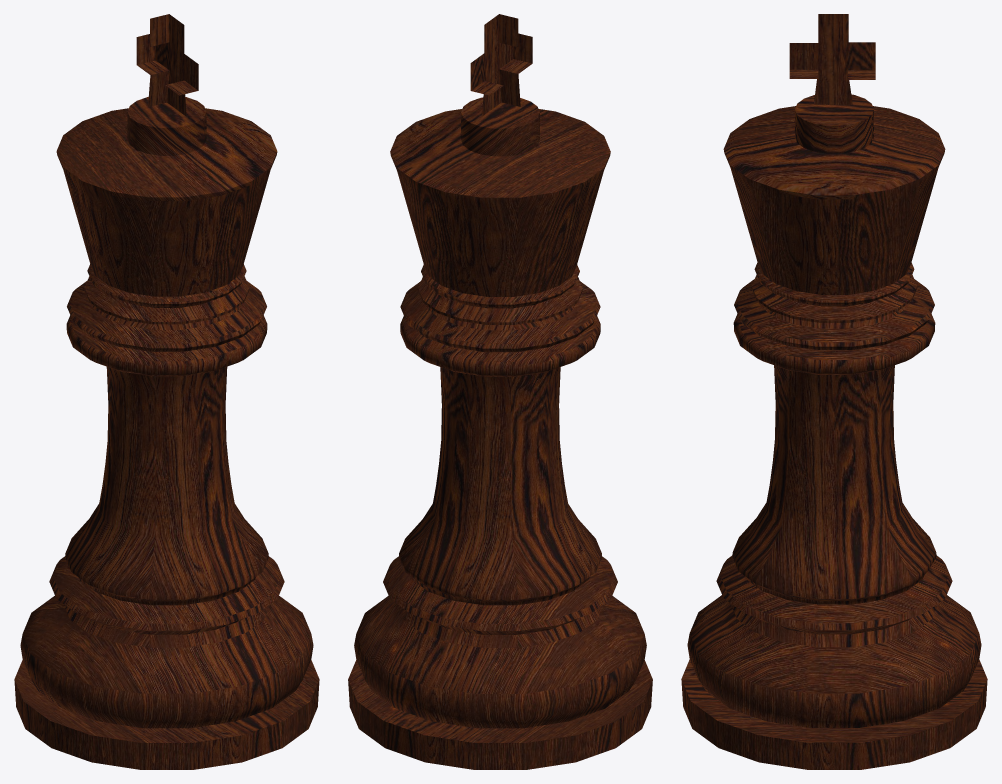
File: black_king.obj
The picture shows the model from 3 angles, left to right: view 1: azimuth 30°, elevation 25°; view 2: azimuth 150°, elevation 25°; view 3: azimuth 270°, elevation 25°; orthographic projection.
Parts seen in each view (by area): view 1: King_B_Material_004_0.001; view 2: King_B_Material_004_0.001; view 3: King_B_Material_004_0.001.
Part boxes in pixels (bbox=[...]): King_B_Material_004_0.001: bbox=[14, 14, 319, 769]; King_B_Material_004_0.001: bbox=[348, 14, 652, 769]; King_B_Material_004_0.001: bbox=[681, 14, 987, 769].
Bounding box in the file's own units: 2.63 × 6.7 × 2.67.
